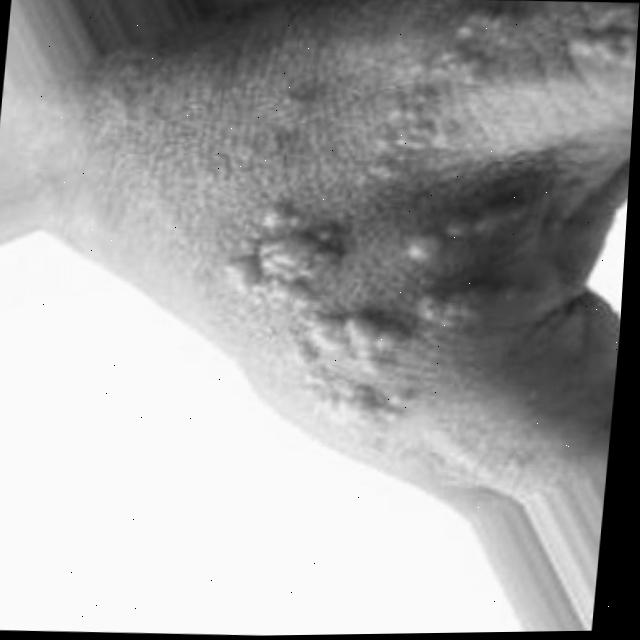Shingles: (215, 0, 640, 426)
